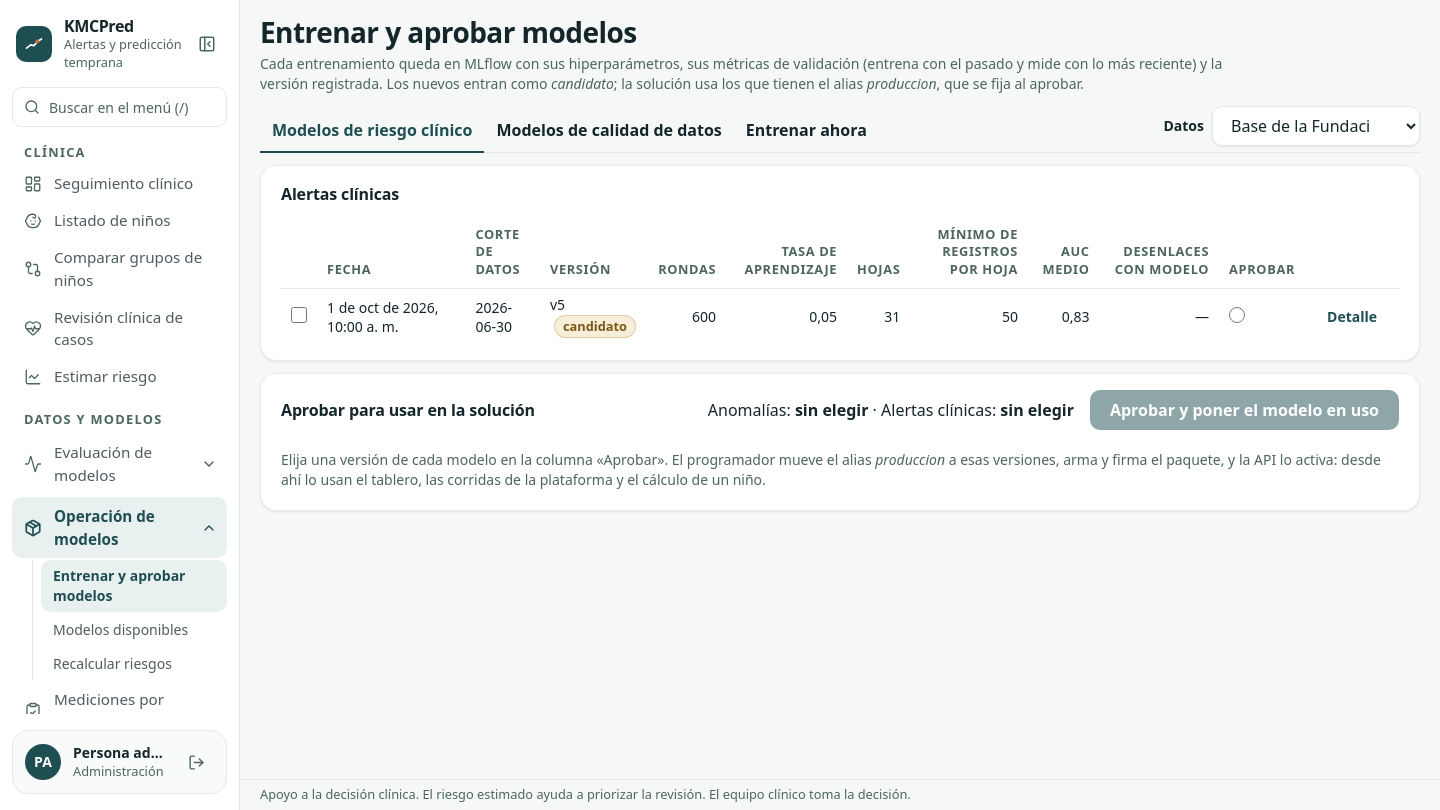
Test: Entrenamientos en pestañas › la aprobación abarca las dos tablas: el resumen y el botón se ven en las dos y recuerdan lo elegido
What coordinates should you click on to do the following:
click the radio button named "Aprobar v5"
I would click on:
 (1237, 315)
Its box is x1=1229 y1=307 x2=1245 y2=323.
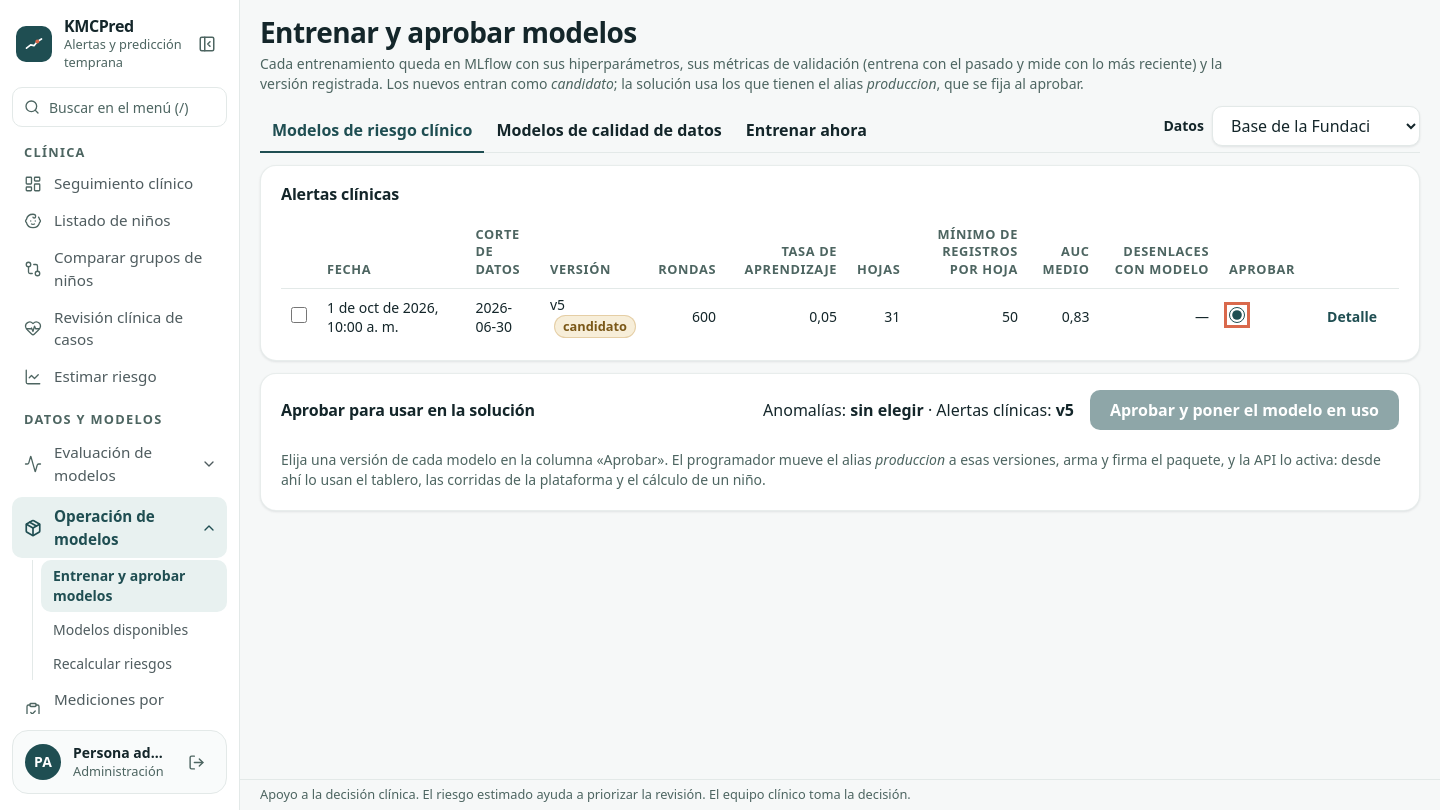
What coordinates should you click on to do the following:
click the tab "Modelos de calidad de datos"
I would click on:
 (609, 131)
Its box is x1=484 y1=109 x2=734 y2=153.
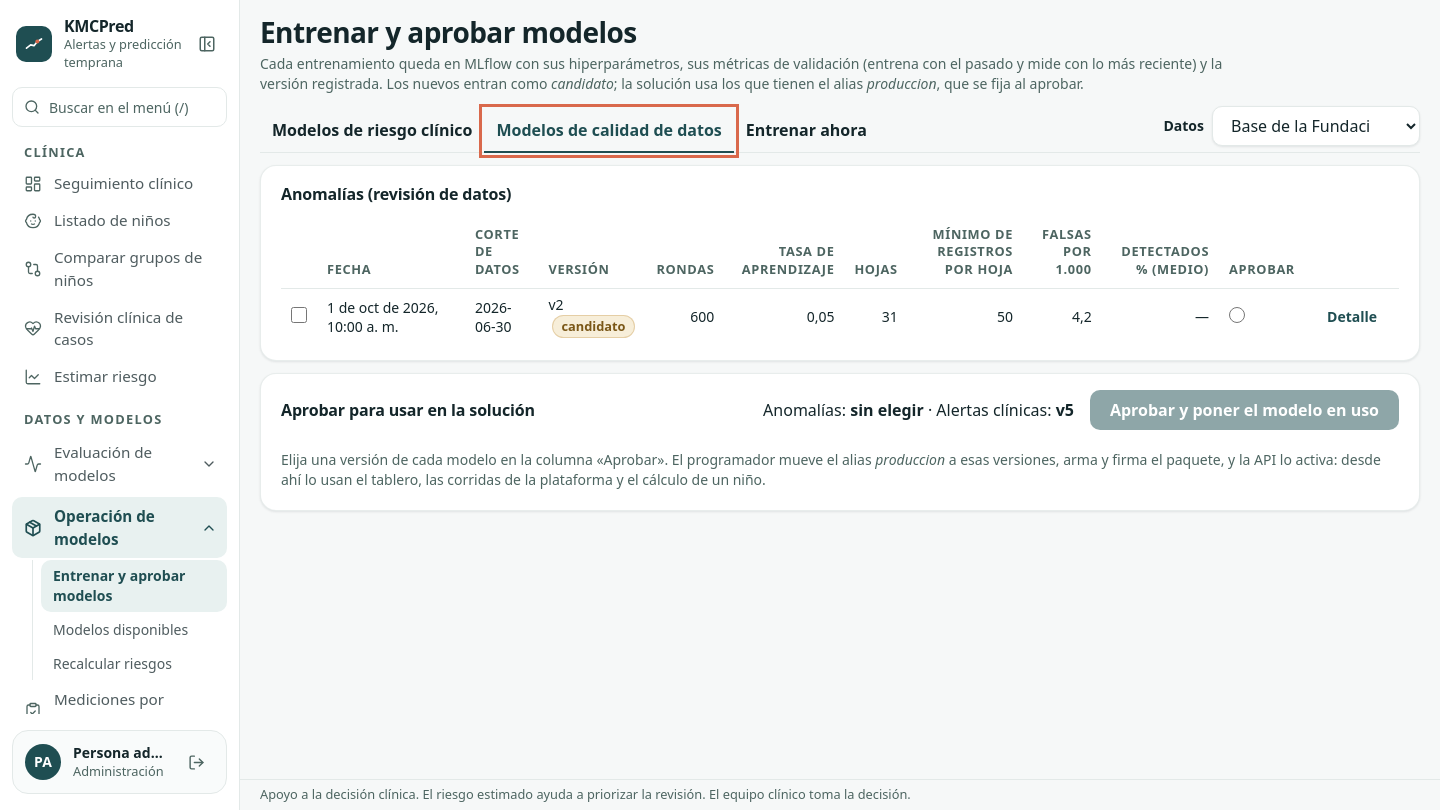
Expected: the button "Aprobar y poner el modelo en uso" is disabled, x1=1090 y1=390 x2=1399 y2=430
What coordinates should you click on to do the following:
click the radio button named "Aprobar v2"
I would click on:
 (1237, 315)
Its box is x1=1229 y1=307 x2=1245 y2=323.
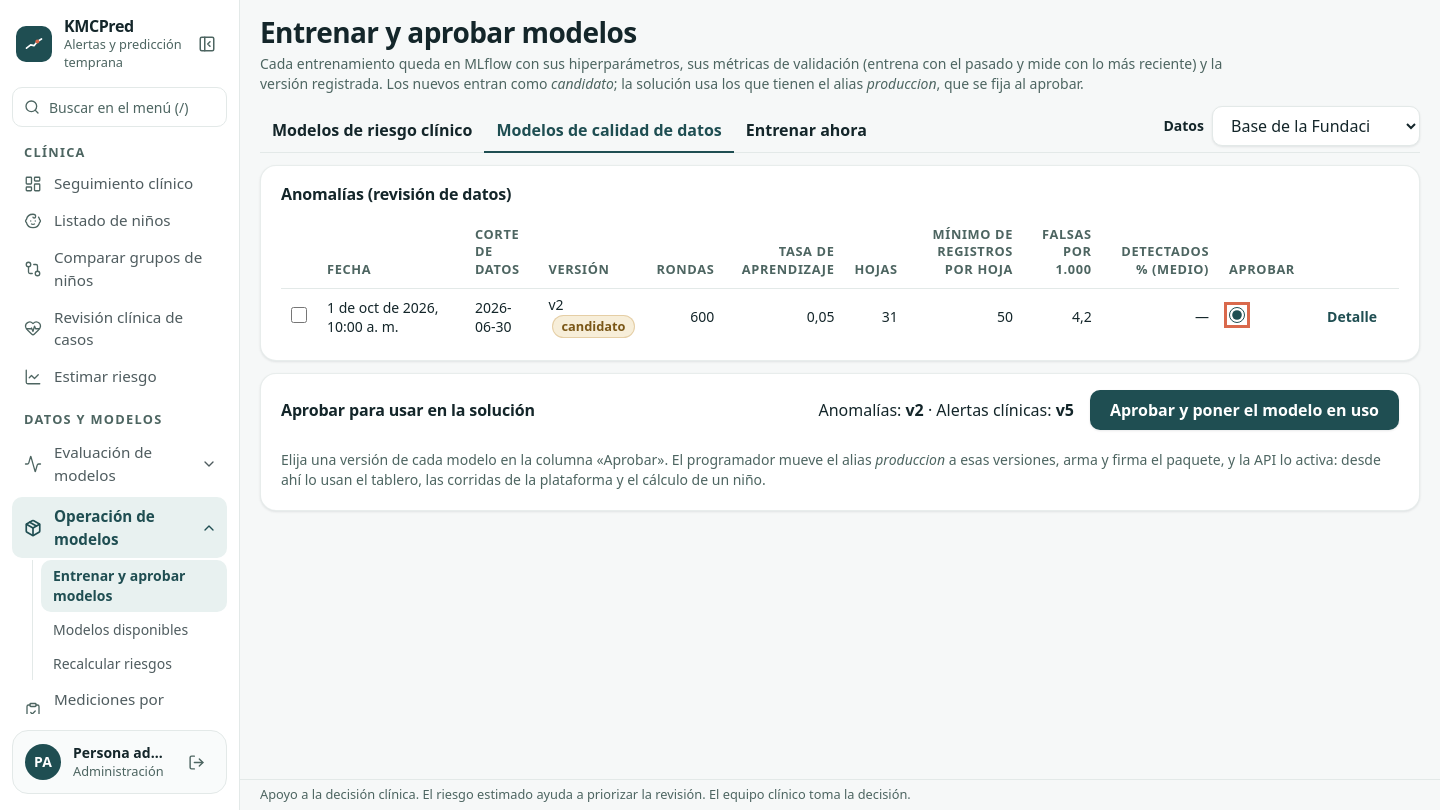
Expected: the button "Aprobar y poner el modelo en uso" is enabled, x1=1090 y1=390 x2=1399 y2=430
What coordinates should you click on to do the following:
click the tab "Entrenar ahora"
I would click on:
 (806, 131)
Its box is x1=734 y1=109 x2=879 y2=153.
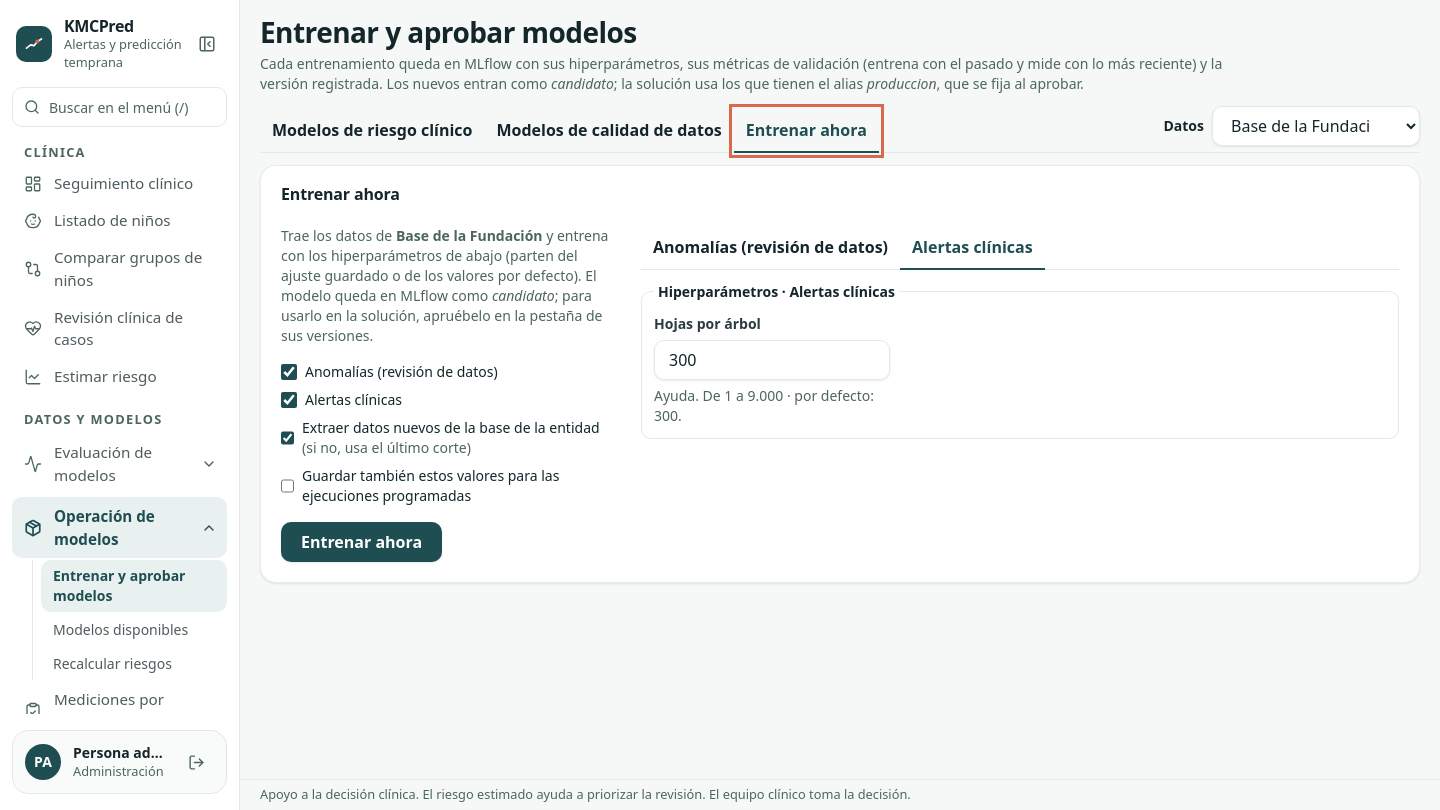
Expected: the heading "Aprobar para usar en la solución" is gone
